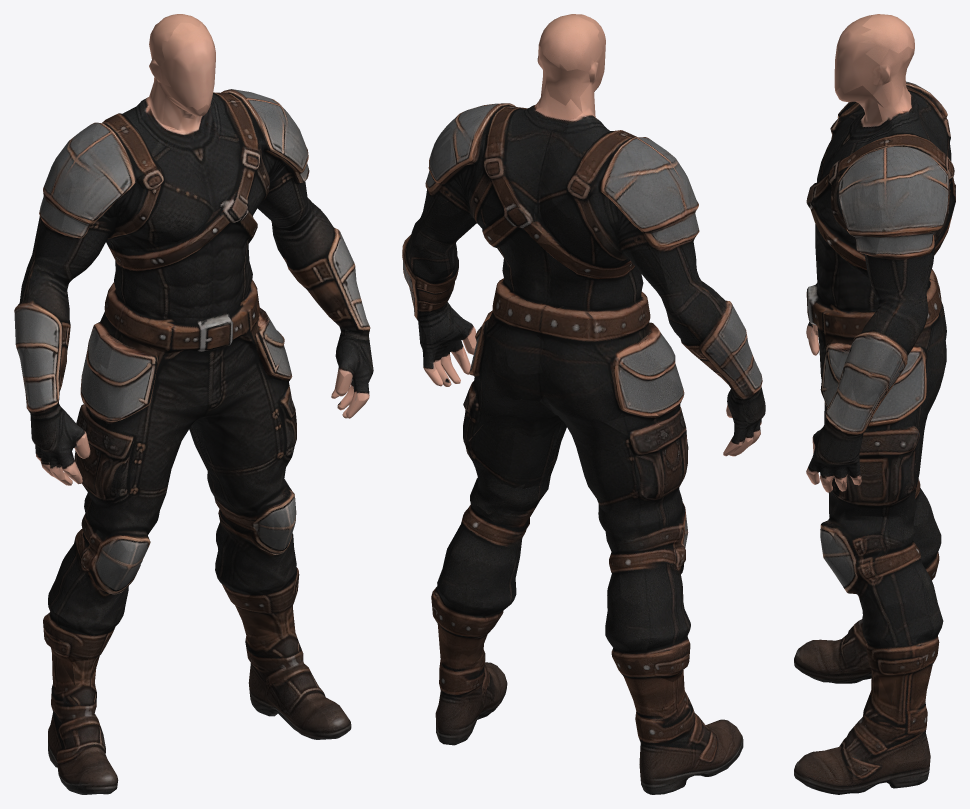
Rendered from Corpo_Masculino_Robusto.glb.
The picture shows the model from 3 angles, left to right: view 1: azimuth 30°, elevation 25°; view 2: azimuth 150°, elevation 25°; view 3: azimuth 270°, elevation 25°; orthographic projection. The views are drawn at different scales.
Visible parts, largest first — view 1: Mesh_0; view 2: Mesh_0; view 3: Mesh_0.
Part boxes in pixels (box(x1,y1,x2,y2)): Mesh_0: box(14, 14, 373, 794); Mesh_0: box(402, 14, 765, 794); Mesh_0: box(794, 14, 955, 794).
Bounding box in the file's own units: 0.9232 × 1.9 × 0.3895.
1 material, 1 textured.
